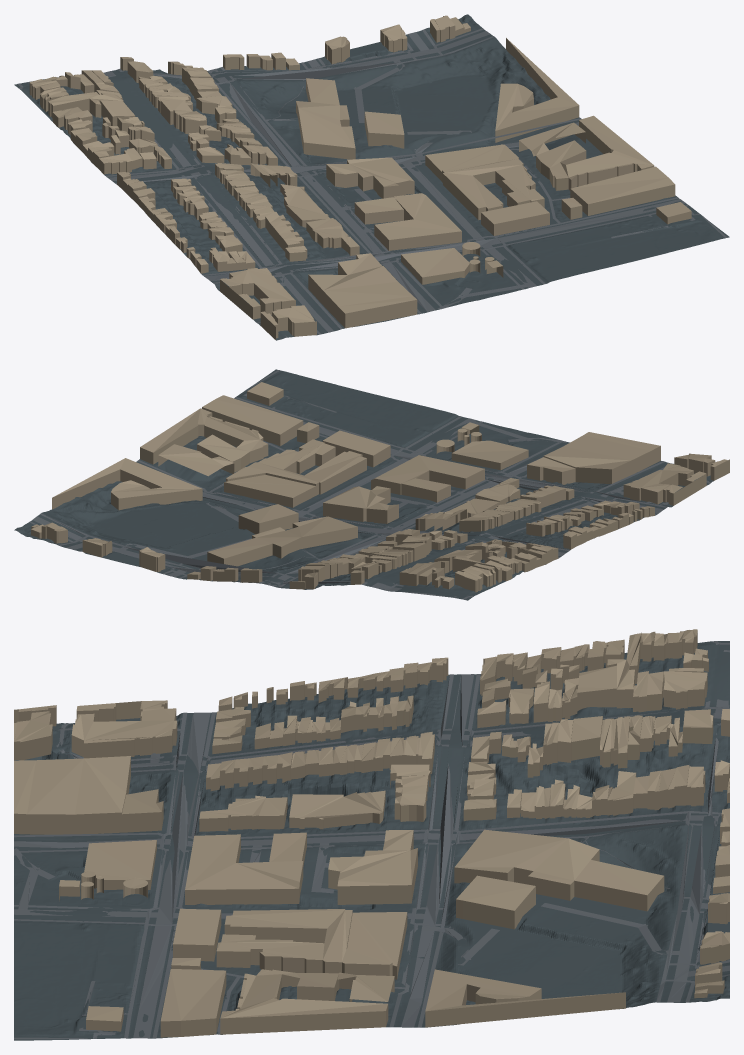
Rendered from epsg26910-1439-10884.lod0.glb.
The picture shows the model from 3 angles, top to bottom: view 1: azimuth 30°, elevation 25°; view 2: azimuth 150°, elevation 25°; view 3: azimuth 270°, elevation 25°; orthographic projection. The views are drawn at different scales.
Parts seen in each view (by area): view 1: epsg26910-1439-10884-lod0; view 2: epsg26910-1439-10884-lod0; view 3: epsg26910-1439-10884-lod0.
Part boxes in pixels (x1,y1,x2,y2): epsg26910-1439-10884-lod0: [14, 14, 729, 340]; epsg26910-1439-10884-lod0: [14, 369, 729, 600]; epsg26910-1439-10884-lod0: [14, 629, 729, 1040].
Size of the model in its own units: 384 by 68.74 by 384.
